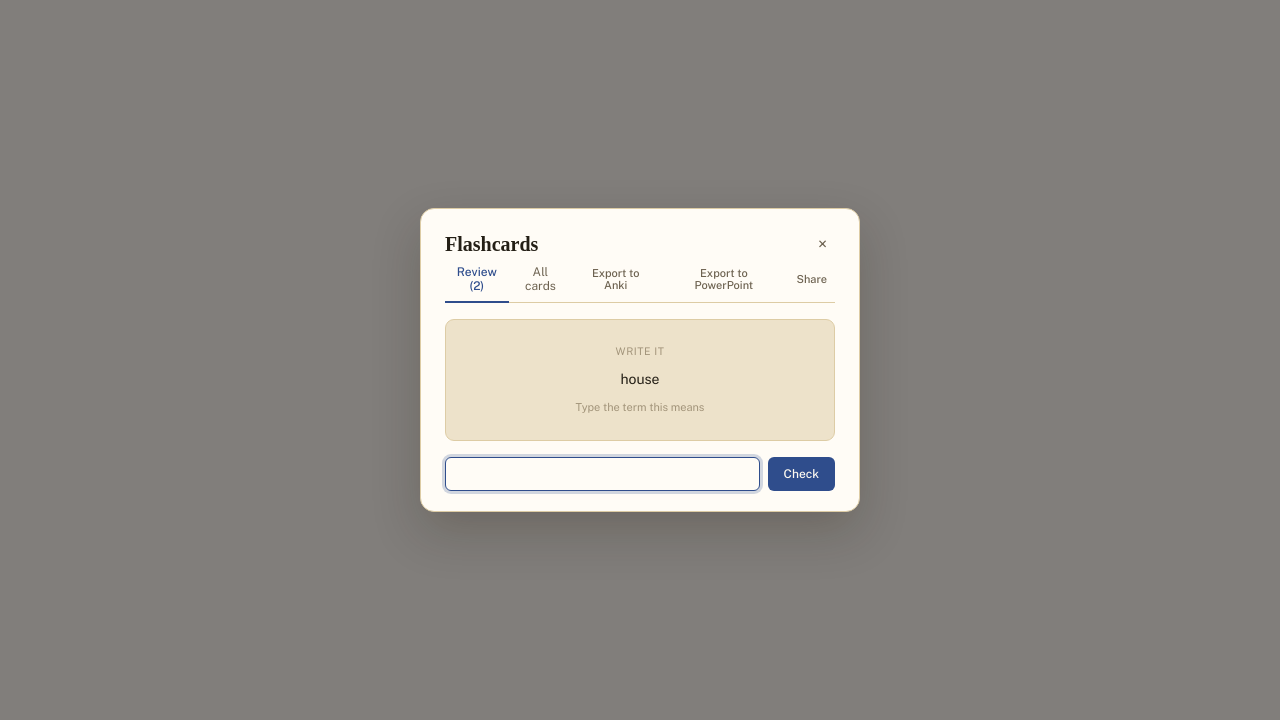
it: FlashcardsPanel › production-direction review › submits the typed answer, shows the verdict, and only advances on Next
The width and height of the screenshot is (1280, 720).
Expected: the text "house" is shown, x1=620 y1=368 x2=660 y2=391
Step 1. Type "la casa" into the field named "your answer" → point(602, 474), box x1=445 y1=457 x2=760 y2=491
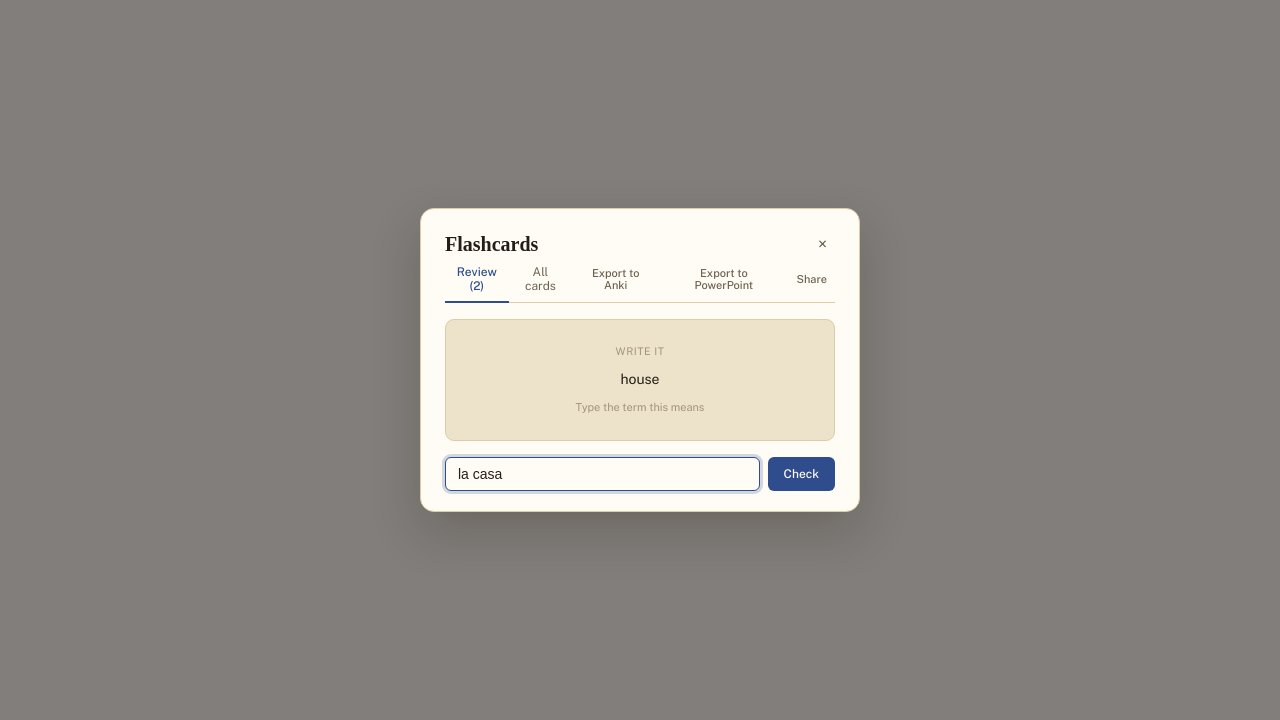
Step 2. Click the button "Check" → point(801, 474), box x1=768 y1=457 x2=835 y2=491
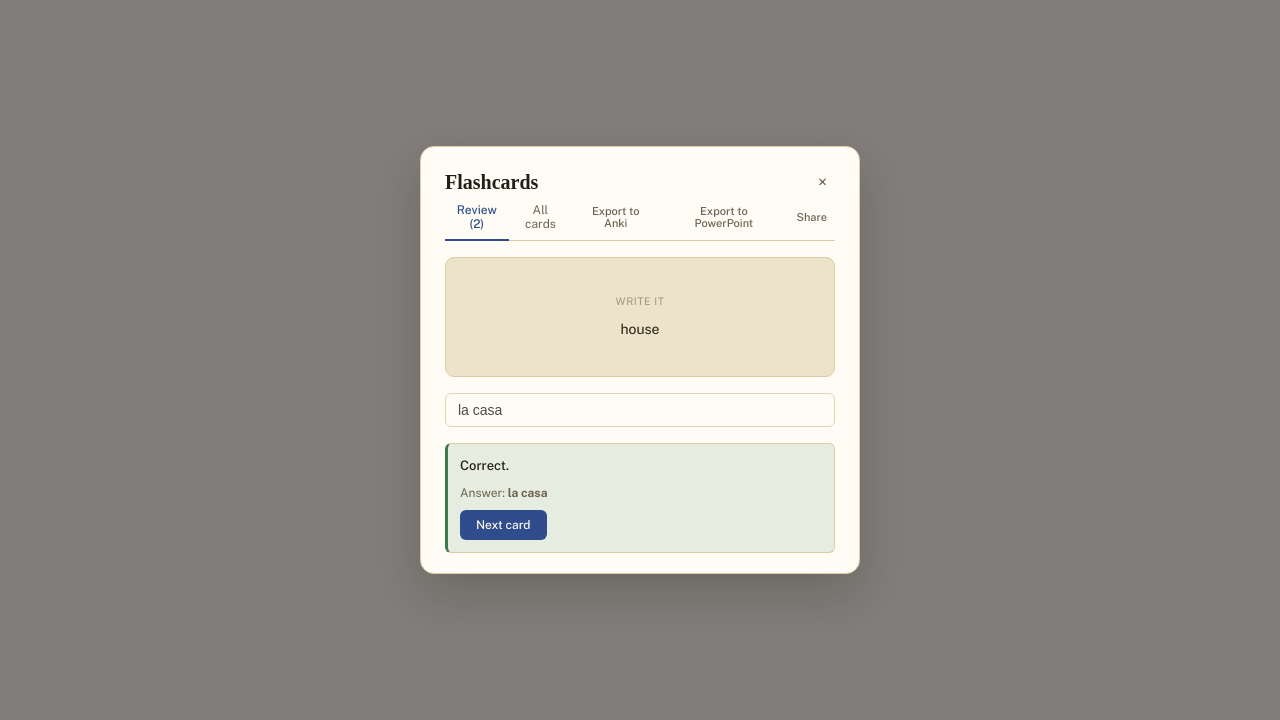
Expected: the text "house" is shown, x1=620 y1=318 x2=660 y2=341
Expected: the text "Correct." is shown, x1=460 y1=456 x2=509 y2=476
Expected: the text "la casa" is shown, x1=508 y1=486 x2=548 y2=500
Step 3. Click the button "Next card" → point(503, 525), box x1=460 y1=510 x2=547 y2=540
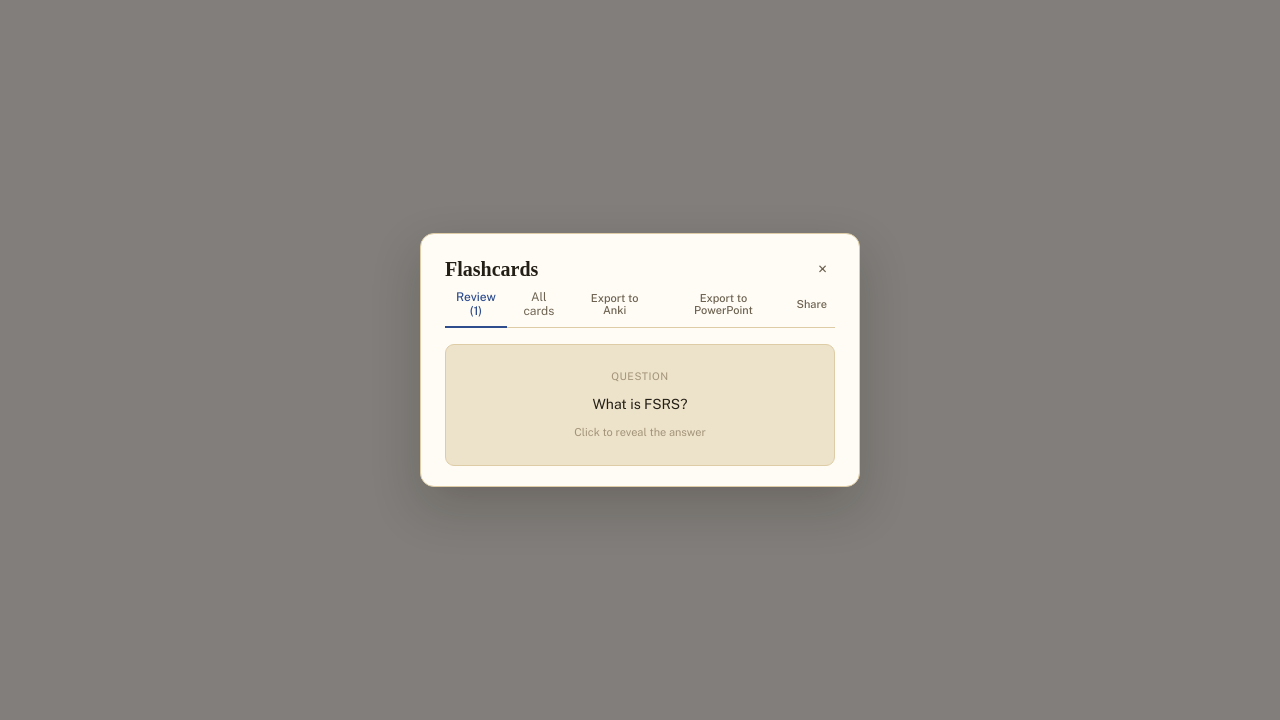
Expected: the text "What is FSRS?" is shown, x1=592 y1=393 x2=688 y2=416
